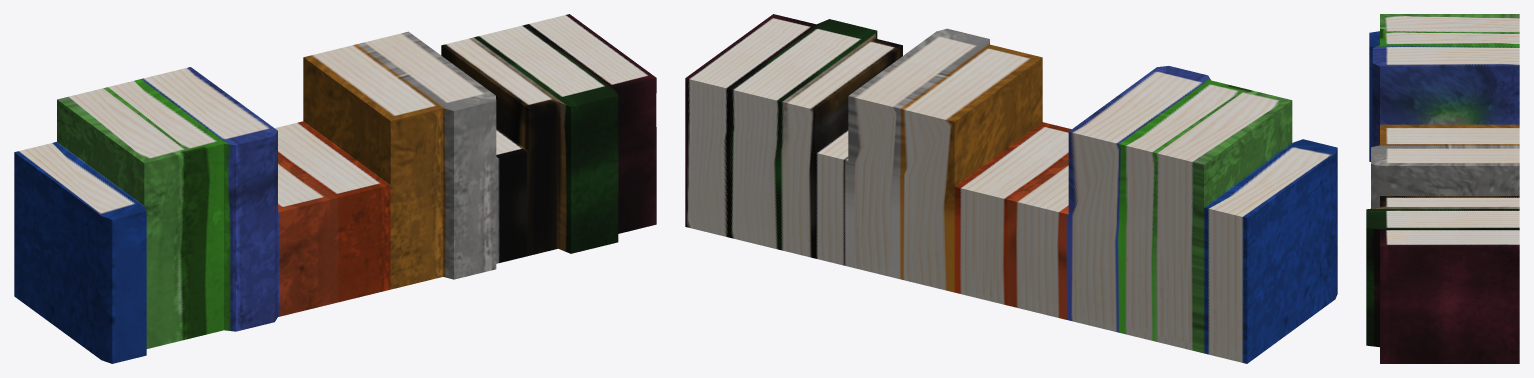
The model's file is BookRow01.fbx.
3 renders of one model, left to right at view 1: azimuth 30°, elevation 25°; view 2: azimuth 150°, elevation 25°; view 3: azimuth 270°, elevation 25°, orthographic. The views are drawn at different scales.
Visible parts, largest first — view 1: BookRow1; view 2: BookRow1; view 3: BookRow1.
Boxes of the visible parts, x1,y1,x2,y2 form: BookRow1: (14,14,656,363); BookRow1: (685,14,1337,363); BookRow1: (1366,14,1519,363).
Size of the model in its own units: 1.51 by 0.4853 by 0.4513.
